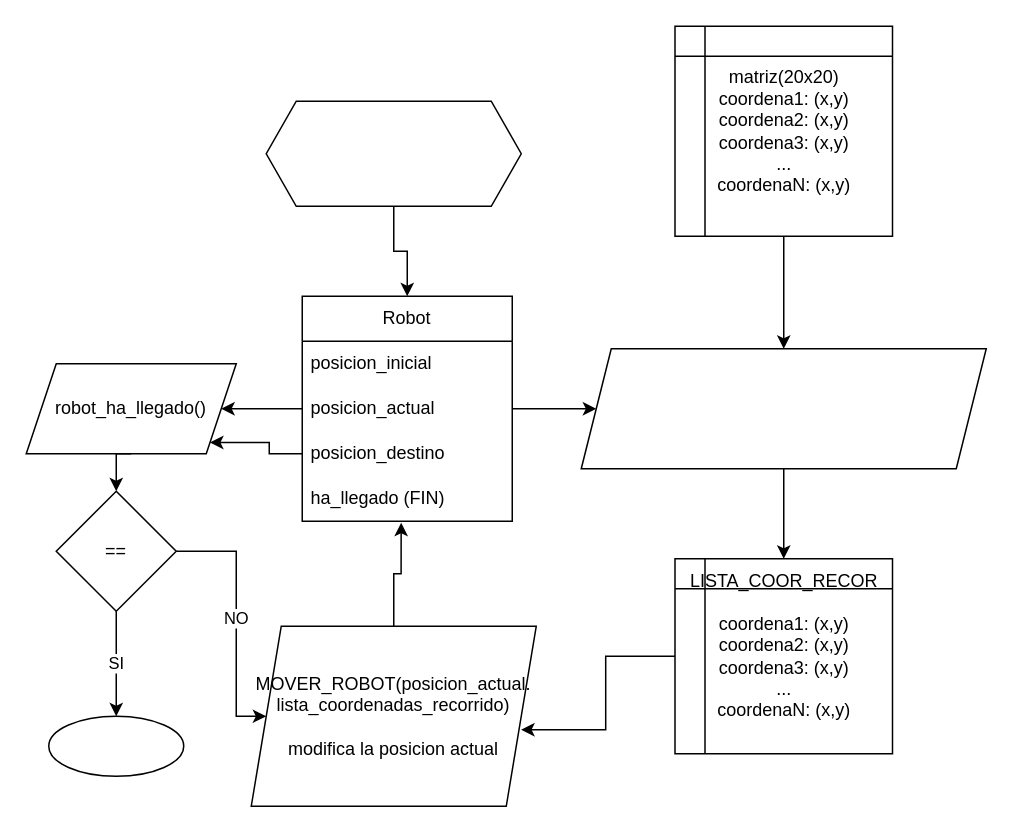
This 1013x833 diagram has some shape labels left out. The shapes that lost their labels are listed below. From the top down, each one's centre as x and y in pixels, then its label:
point (393, 153): Capturar_posiciones() leer(posicion_inicial) leer(posicion_destino)
point (783, 408): DETERMINAR_RECORRIDO( posicion_inicial, posicion_destino ):
point (115, 745): FIN
